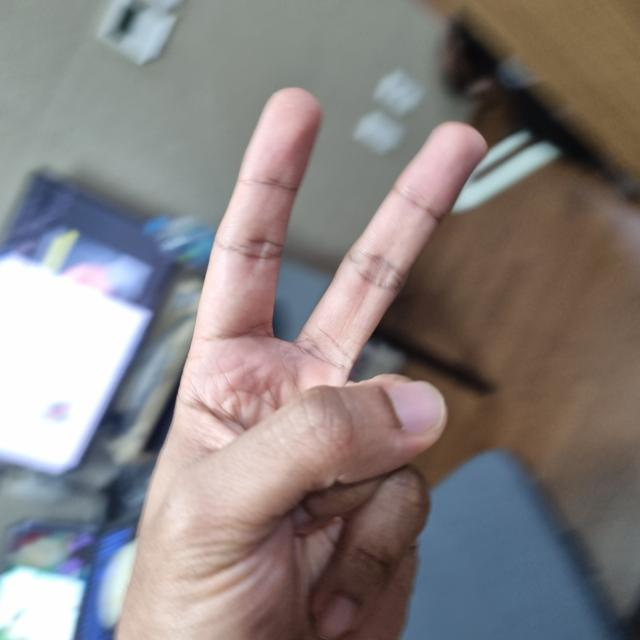Scissors: (0, 124, 549, 480)
